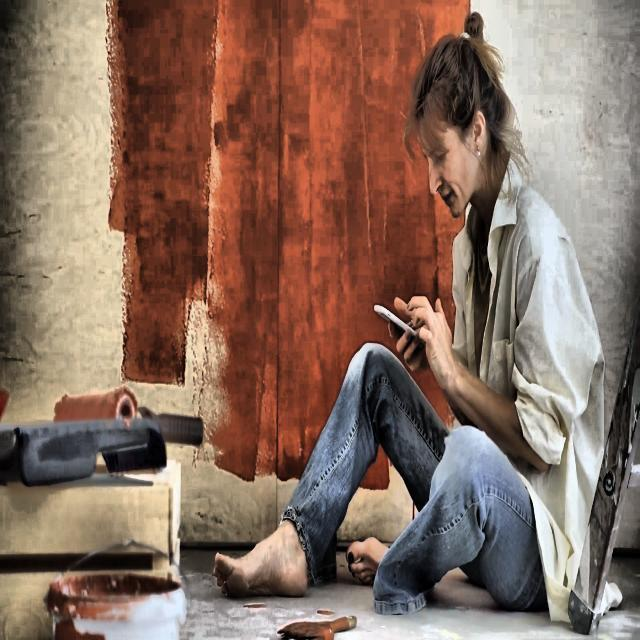Phone: (372, 298, 420, 342)
